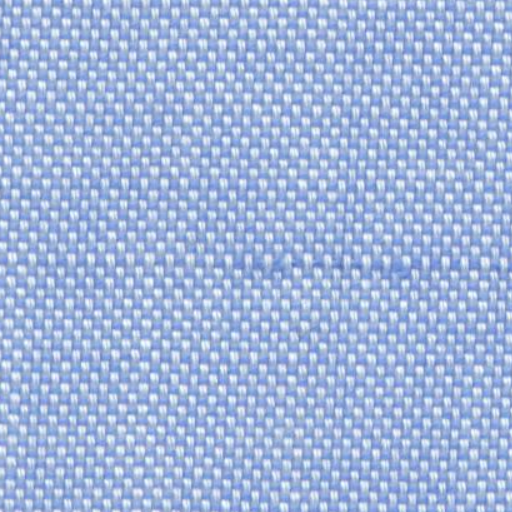DaiSha: (36, 242, 498, 280)
